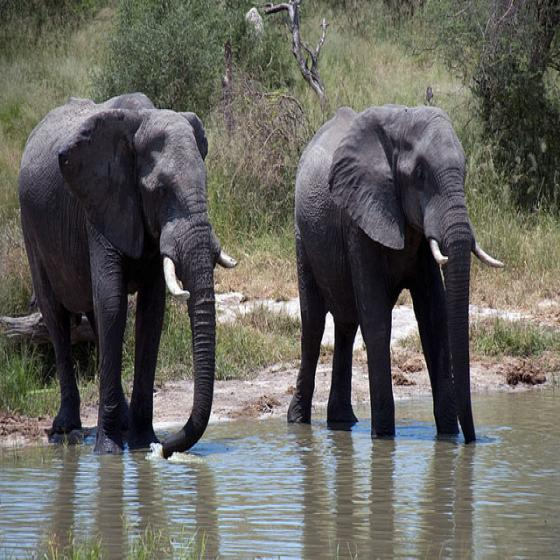elephant: (15, 92, 237, 463), (278, 105, 508, 449)
